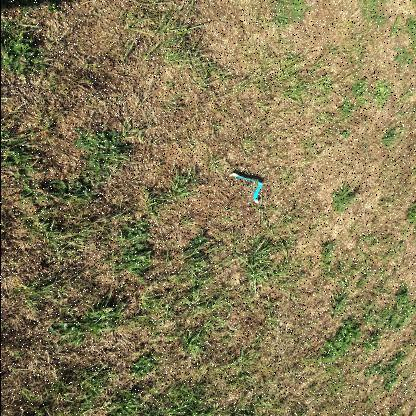other: (228, 172, 262, 204)
